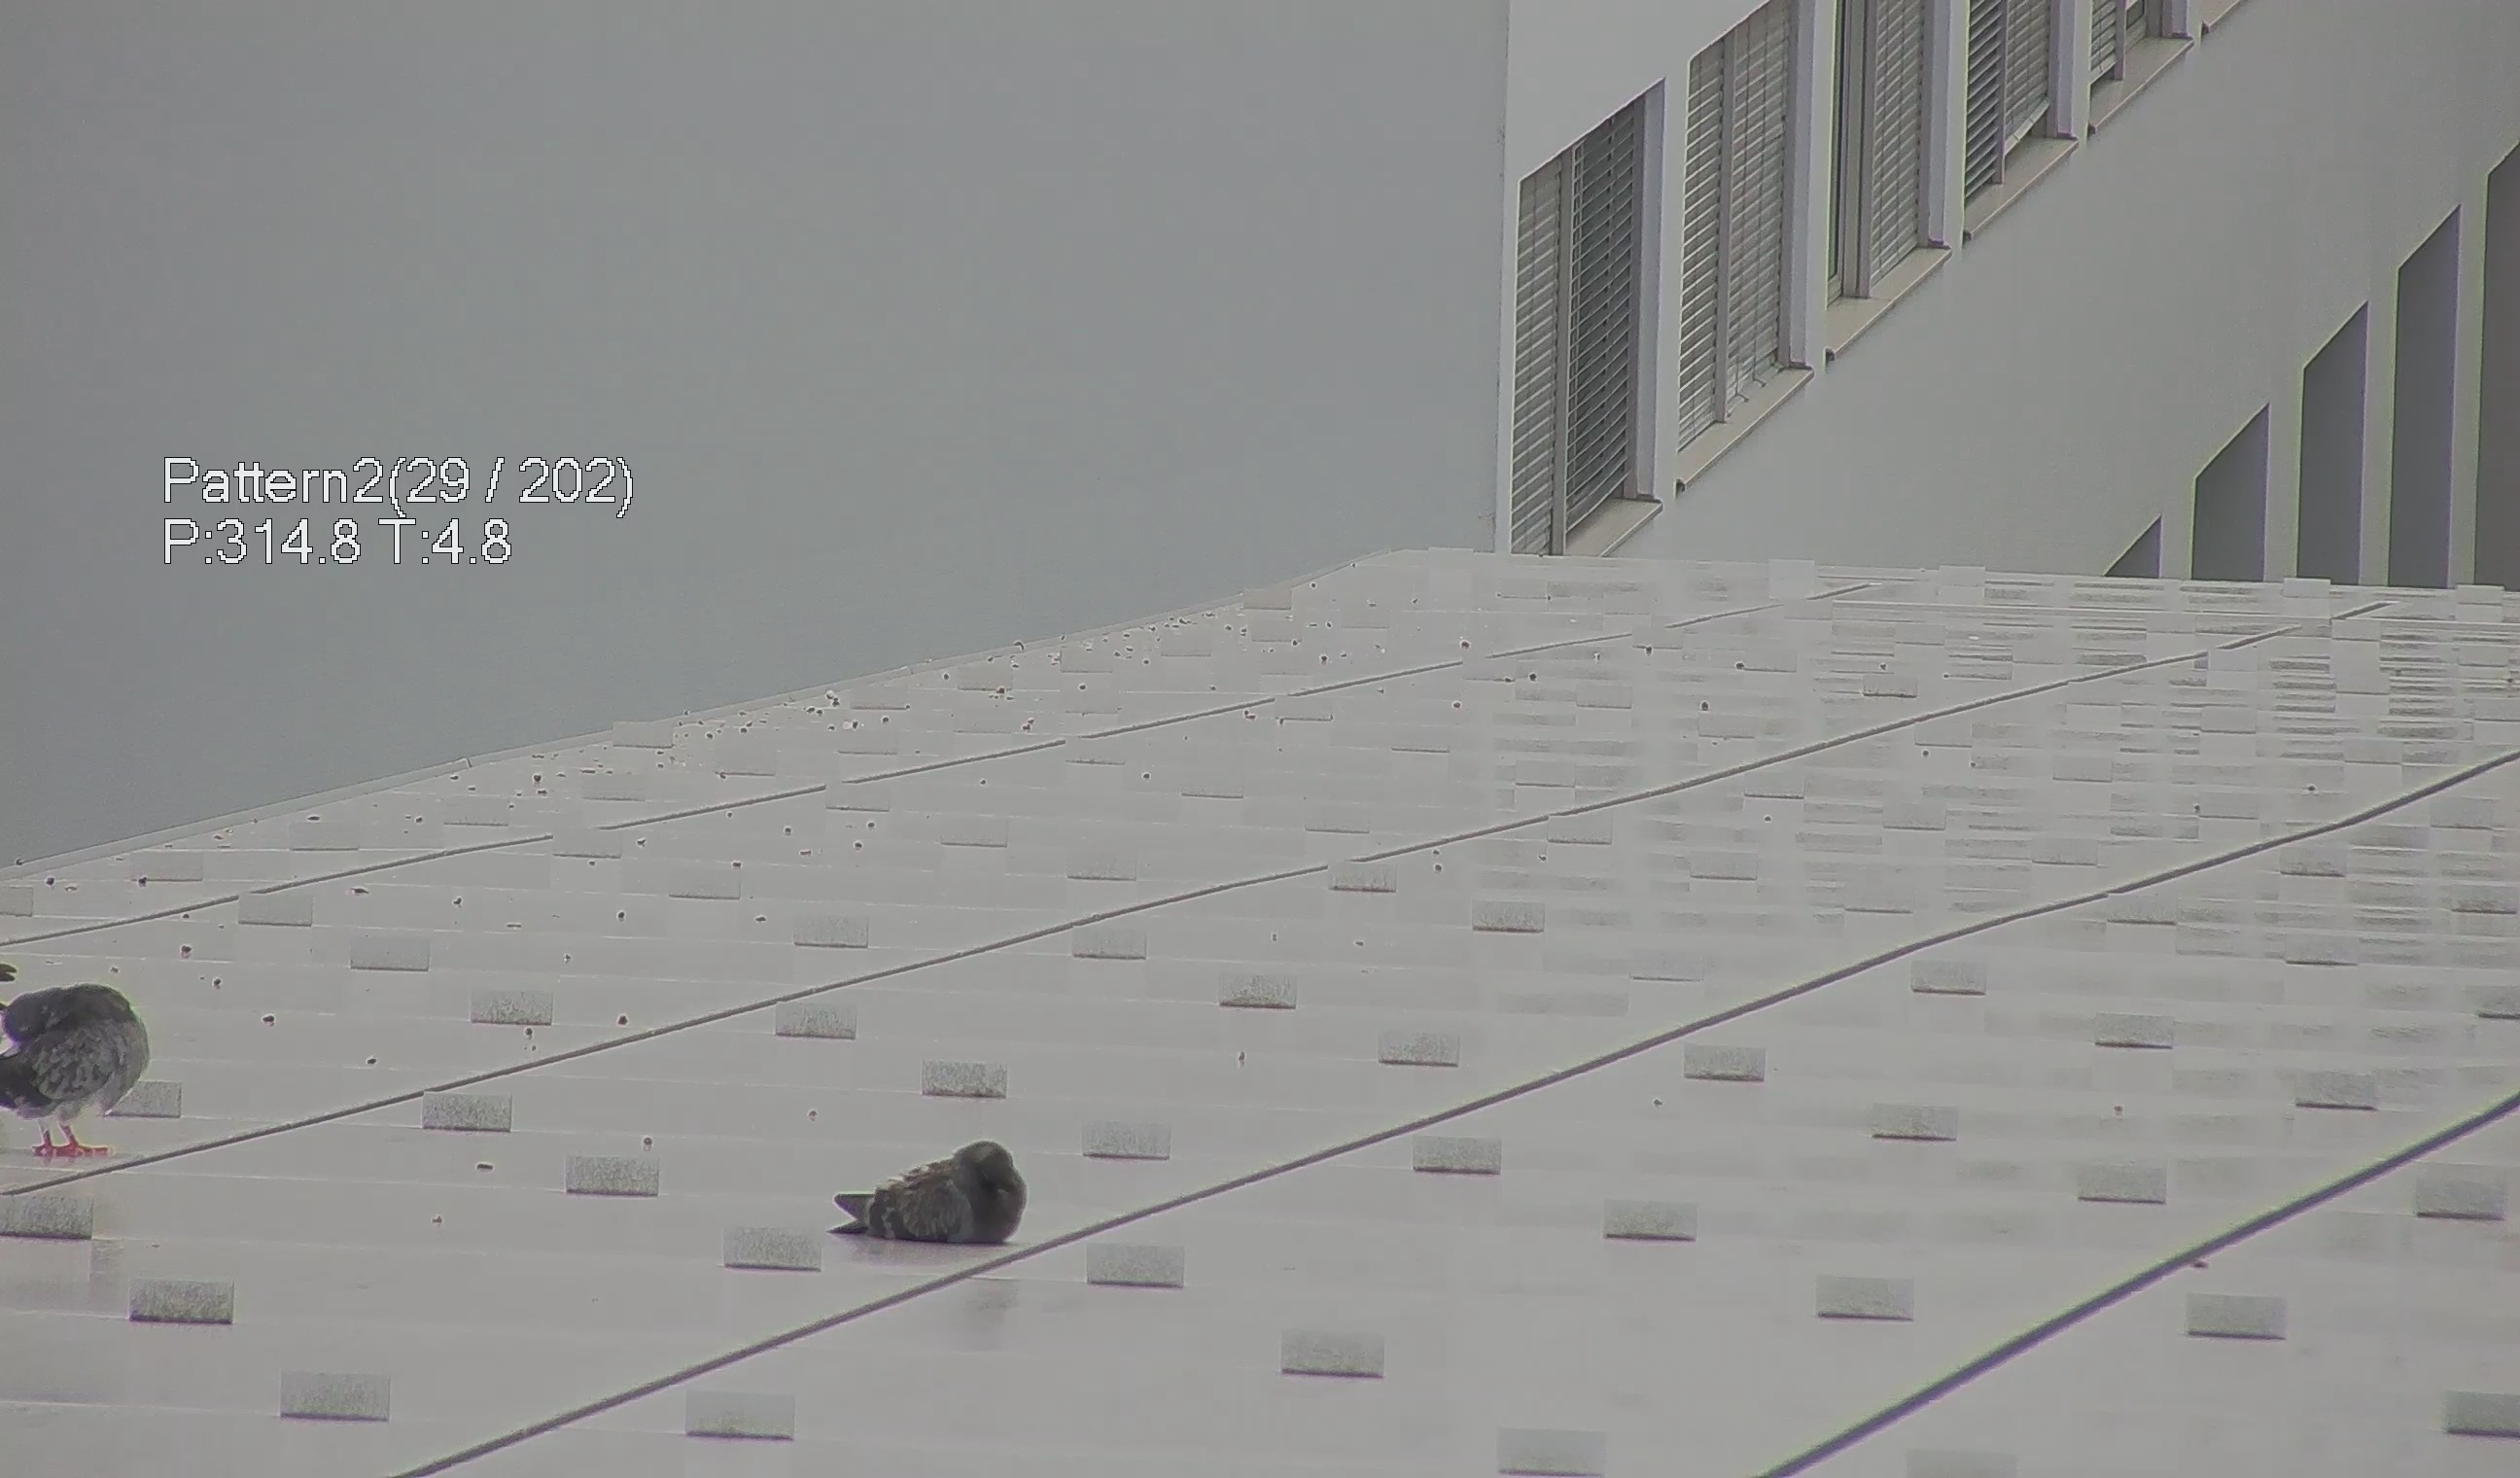Pigeon: (825, 1137, 1034, 1260), (11, 975, 164, 1142)
